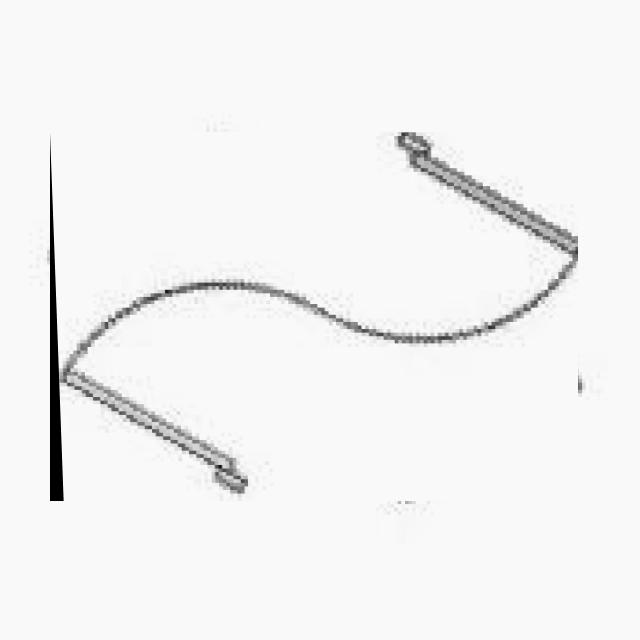door: (51, 132, 578, 501)
